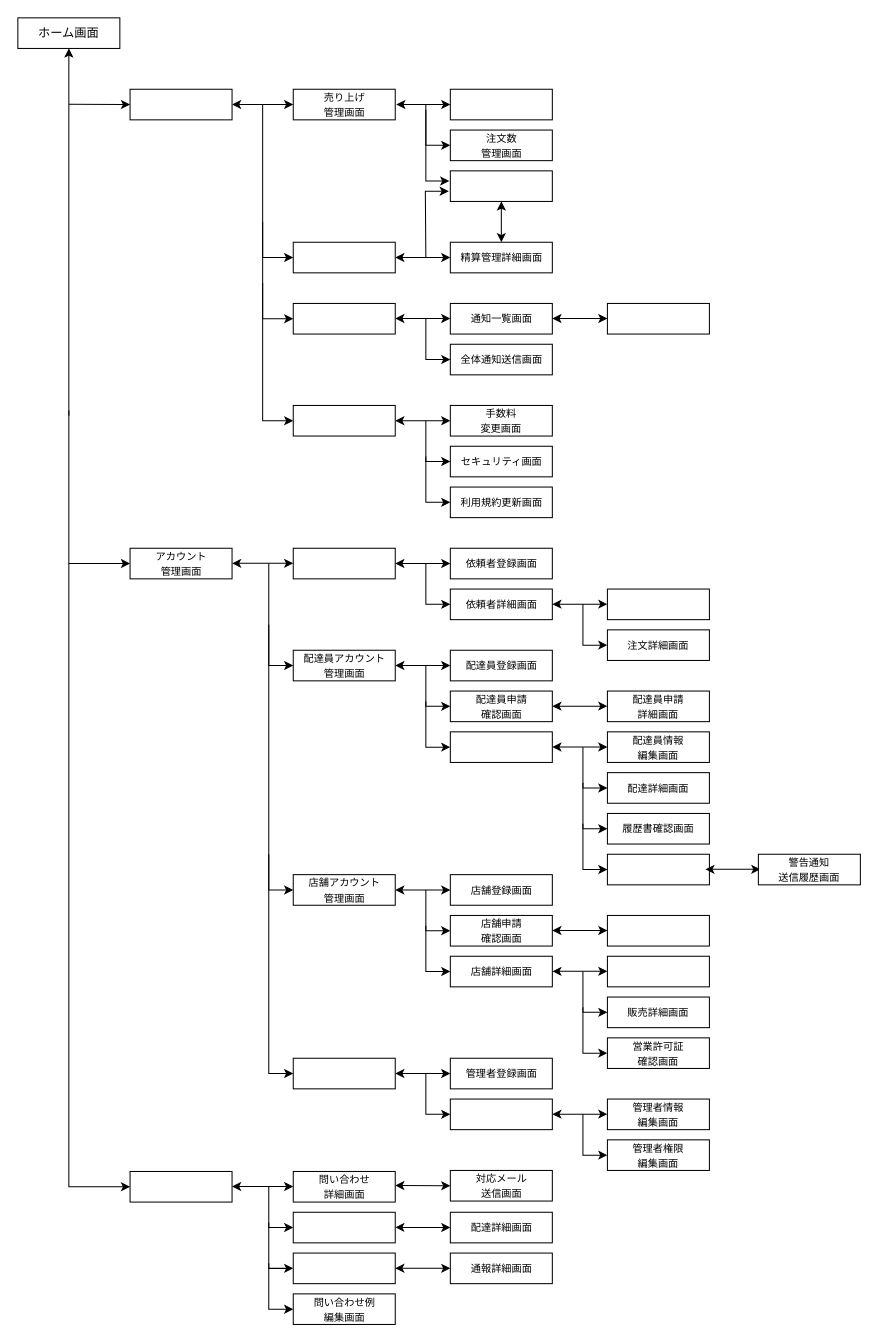
Image size: 878x1342. Some labels were removed from this diagram. The shapes that lost their labels are listed below. From the top down, each one's box as (x1, y1, x2, y2) in pixels, then its label:
(129, 88, 232, 120): 運営管理画面
(449, 88, 552, 120): 総利用者数 管理画面
(449, 170, 552, 201): 収益管理画面
(292, 241, 395, 273): 精算管理画面
(292, 302, 395, 334): 全体通知 送信・管理画面
(606, 302, 709, 334): 通知詳細画面
(292, 404, 395, 436): システム 設定画面
(292, 547, 395, 579): 依頼者アカウント 管理画面
(606, 588, 709, 620): 依頼者情報 編集画面
(449, 731, 552, 762): 配達員詳細画面
(606, 853, 709, 885): 警告通知送信画面
(606, 914, 709, 946): 店舗申請 詳細画面
(606, 955, 709, 987): 店舗情報 編集画面
(292, 1057, 395, 1089): 管理者アカウント 管理画面
(449, 1098, 552, 1130): 管理者詳細画面
(129, 1170, 232, 1202): 問い合わせ 対応画面
(292, 1211, 395, 1243): 誤配達対応画面
(292, 1252, 395, 1284): 通報管理画面
